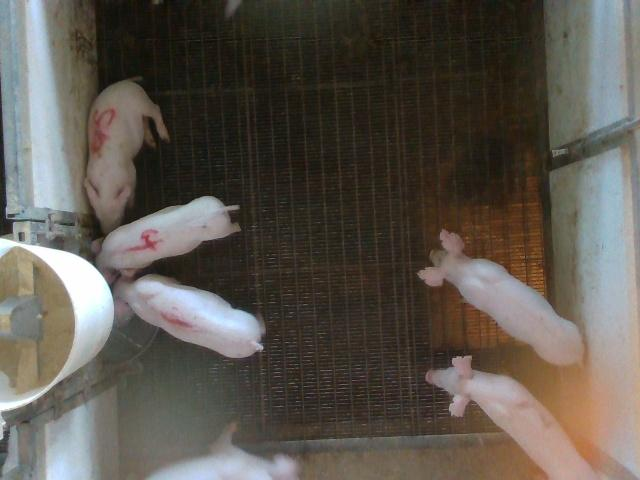pig-1: (114, 274, 264, 358)
pig-2: (426, 356, 598, 479)
pig-4: (96, 196, 239, 271)
pig-5: (85, 80, 169, 234)
